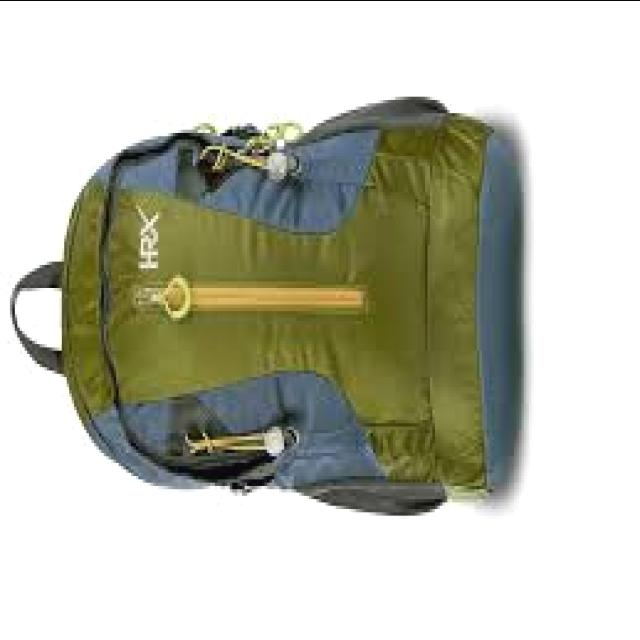backpack: (9, 97, 518, 519)
